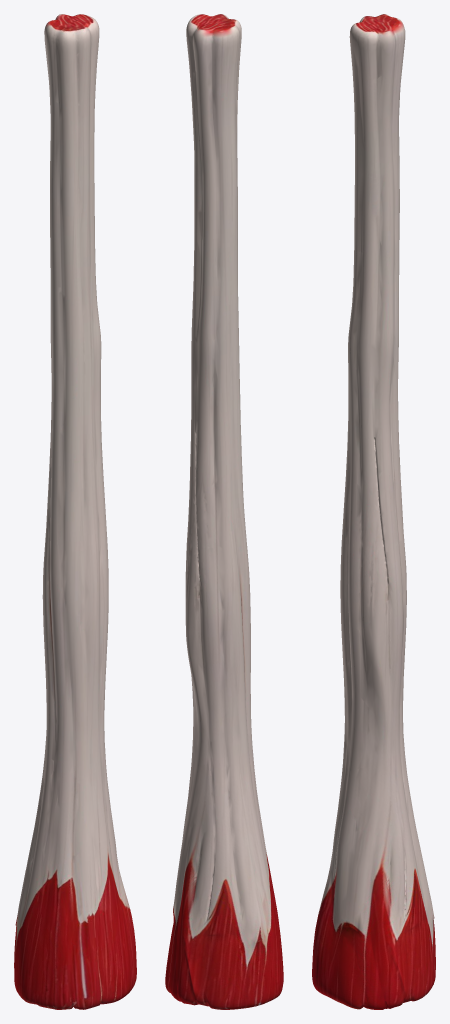
The model's file is brachioradialis.glb.
The picture shows the model from 3 angles, left to right: view 1: azimuth 90°, elevation 25°; view 2: azimuth 210°, elevation 25°; view 3: azimuth 270°, elevation 25°; orthographic projection.
Parts seen in each view (by area): view 1: brachioradialis; view 2: brachioradialis; view 3: brachioradialis.
Part boxes in pixels (x1,y1,x2,y2): brachioradialis: (14,14,136,1009); brachioradialis: (165,14,283,1009); brachioradialis: (312,14,435,1009).
Bounding box in the file's own units: 0.1111 × 1 × 0.1156.
1 material, 1 textured.
